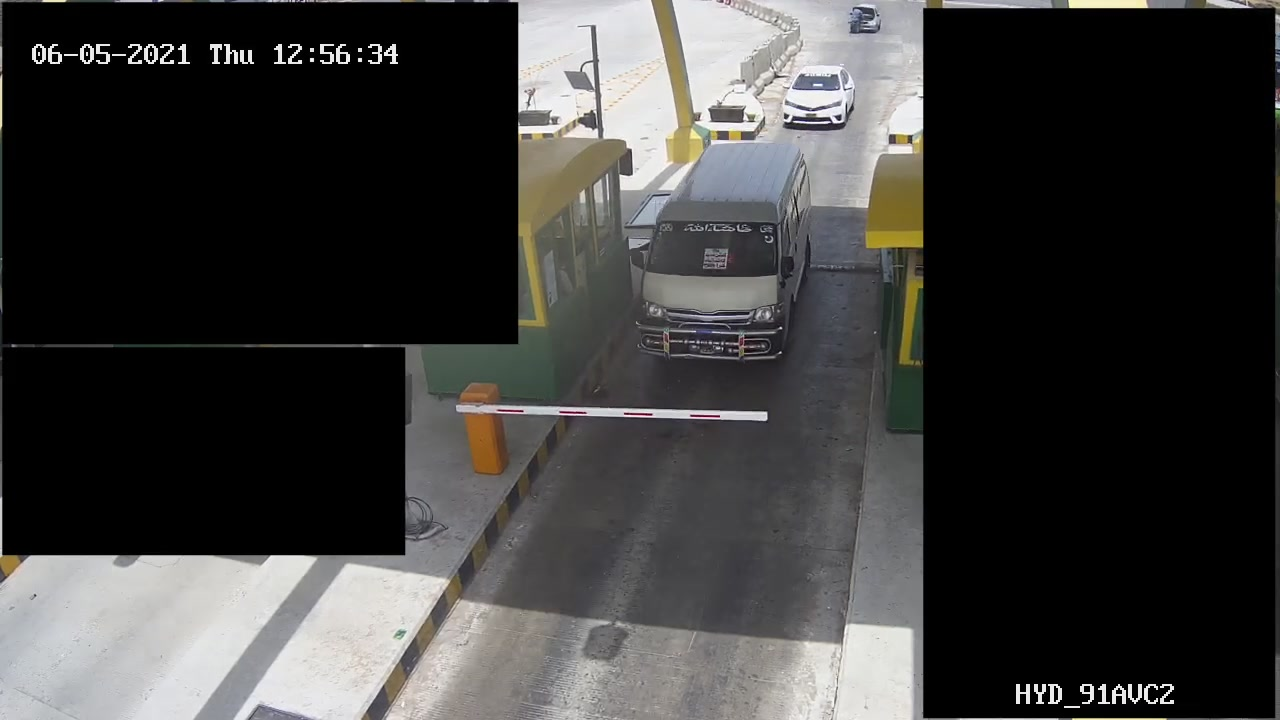F2: (637, 133, 812, 365)
